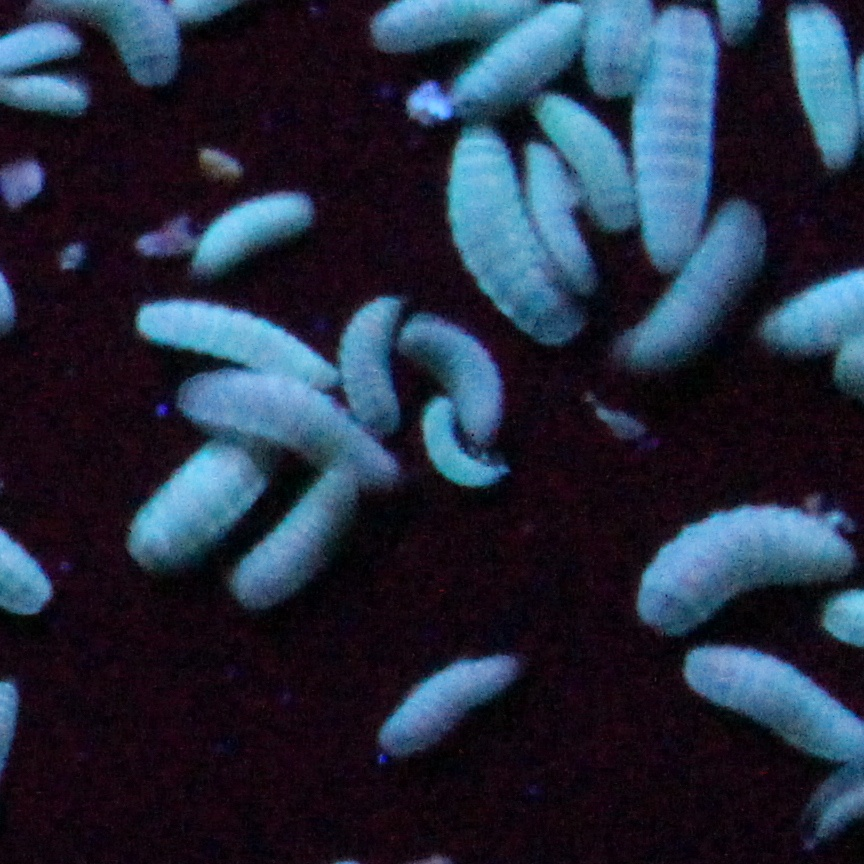larve: (642, 495, 853, 634), (173, 367, 398, 480), (612, 214, 770, 373), (442, 129, 560, 339), (127, 432, 286, 568), (678, 645, 861, 763), (230, 462, 361, 606), (130, 303, 337, 393), (380, 645, 520, 752), (453, 3, 575, 116), (398, 311, 504, 440), (645, 9, 698, 260), (525, 142, 598, 295), (191, 181, 309, 272), (420, 390, 507, 496), (339, 288, 398, 436), (561, 119, 634, 234)
